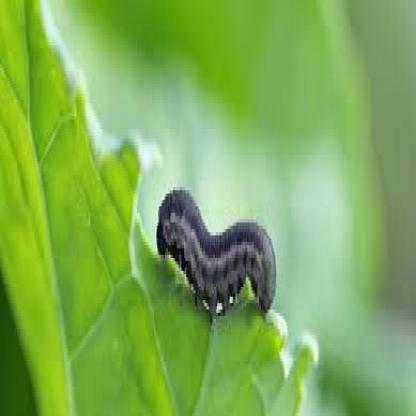sawfly: (154, 178, 281, 329)
